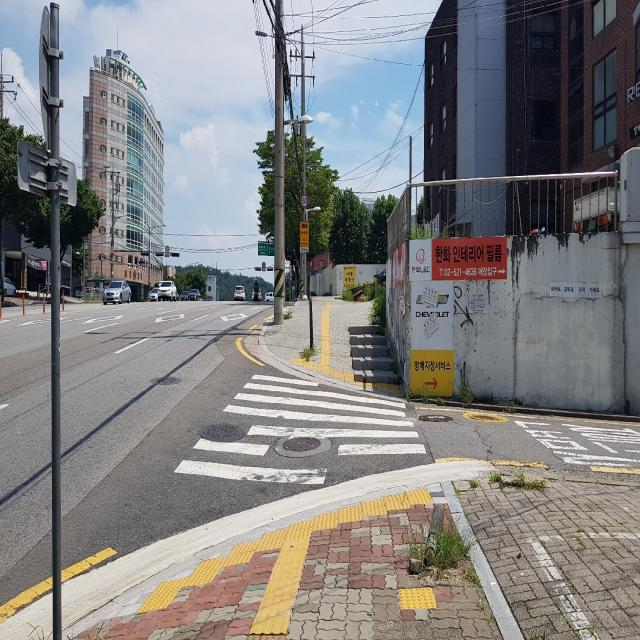횡단보도: (172, 371, 428, 487)
